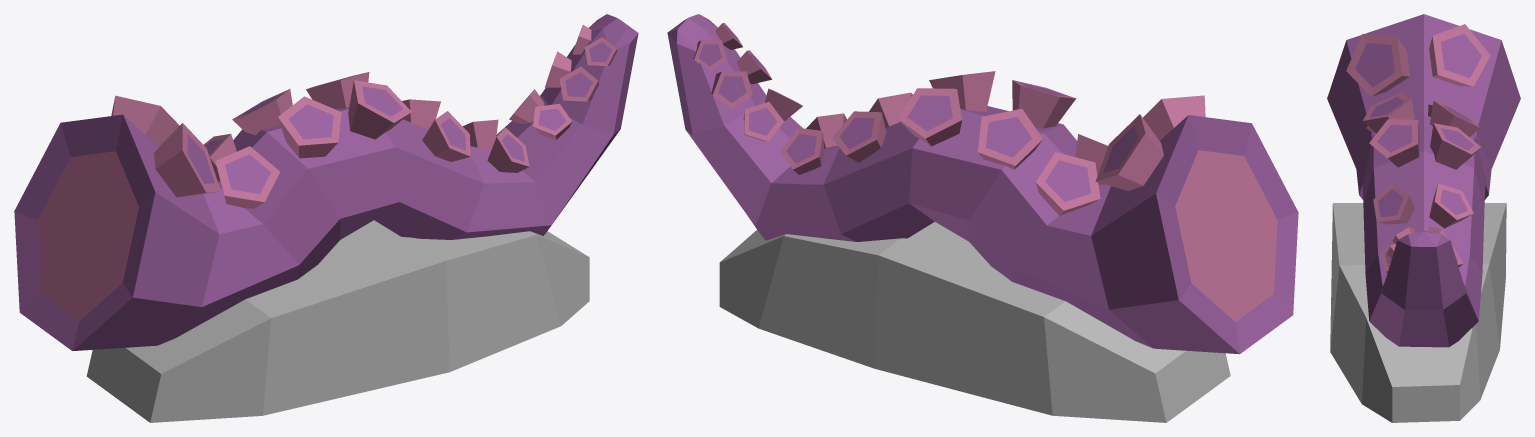
The model's file is Sushi_NigiriOctopus.glb.
The picture shows the model from 3 angles, left to right: view 1: azimuth 30°, elevation 25°; view 2: azimuth 150°, elevation 25°; view 3: azimuth 270°, elevation 25°; orthographic projection. The views are drawn at different scales.
Visible parts, largest first — view 1: Sushi_NigiriOctopus; view 2: Sushi_NigiriOctopus; view 3: Sushi_NigiriOctopus.
Boxes of the visible parts, box(x1,y1,x2,y2) form: Sushi_NigiriOctopus: box(14, 14, 638, 422); Sushi_NigiriOctopus: box(667, 14, 1298, 422); Sushi_NigiriOctopus: box(1327, 14, 1520, 422).
Bounding box in the file's own units: 0.762 × 0.3504 × 0.2673.
